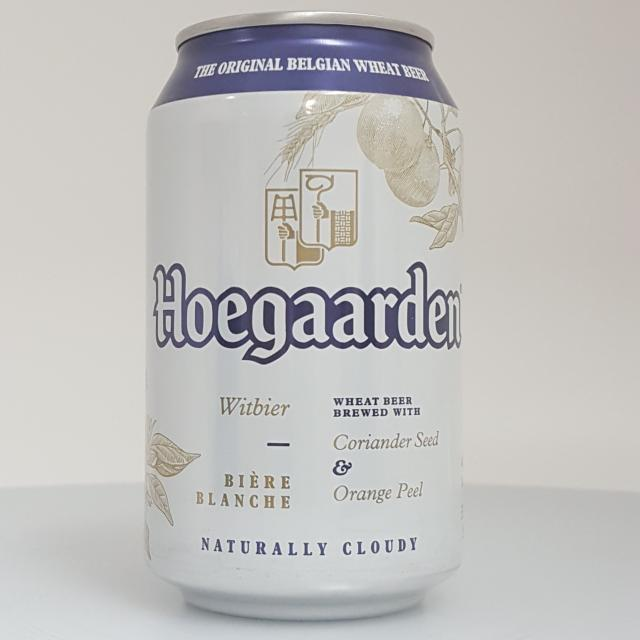beer-can: (144, 11, 462, 620)
